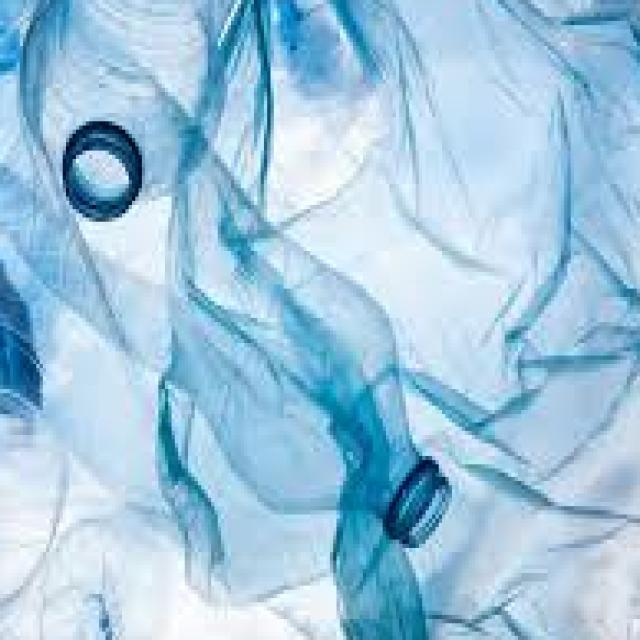organic: (5, 7, 625, 626)
